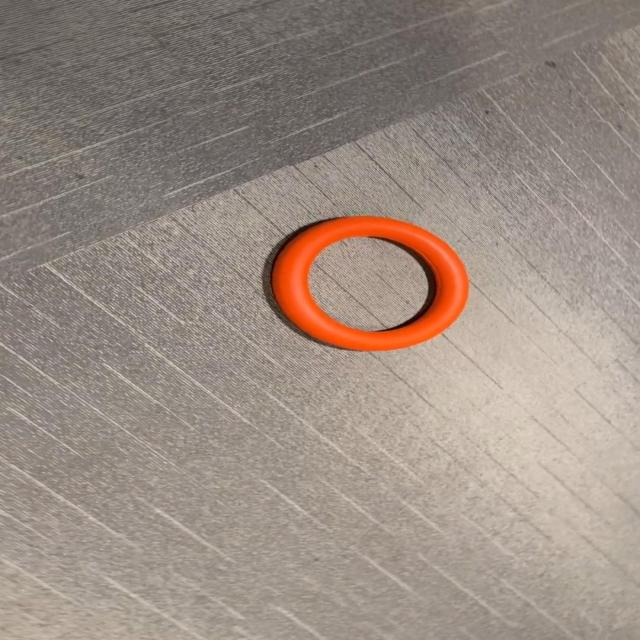note: (271, 211, 470, 354)
